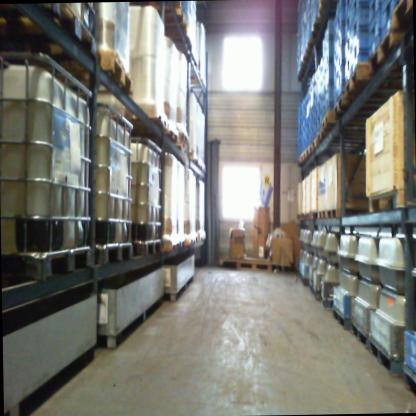pallet: (192, 38, 314, 243), (0, 2, 97, 57), (58, 50, 134, 94), (15, 244, 91, 281), (331, 89, 399, 120), (343, 61, 395, 101), (365, 27, 403, 76), (96, 237, 162, 264), (367, 336, 401, 378), (320, 109, 366, 132), (366, 186, 405, 213), (389, 0, 413, 32), (312, 135, 361, 150), (159, 9, 188, 32), (315, 127, 365, 140), (326, 204, 369, 219), (348, 322, 368, 352), (402, 360, 416, 400), (331, 303, 351, 330), (130, 0, 181, 10), (235, 259, 273, 272), (135, 114, 165, 129), (318, 292, 334, 313), (316, 0, 335, 17), (310, 16, 324, 38), (162, 128, 179, 142), (161, 238, 179, 251), (310, 282, 319, 298), (178, 130, 188, 144), (305, 142, 313, 157), (299, 149, 306, 162), (317, 209, 327, 218), (190, 156, 198, 165), (301, 55, 308, 65), (296, 69, 302, 80), (198, 232, 206, 240), (178, 239, 185, 248), (185, 238, 192, 245), (304, 211, 309, 219), (201, 165, 205, 173), (296, 213, 300, 220), (198, 164, 202, 170)
small_load_carrier: (350, 34, 367, 72), (379, 0, 401, 29), (352, 9, 371, 40), (367, 7, 380, 48), (343, 4, 353, 45), (344, 52, 354, 87), (352, 0, 368, 20), (367, 0, 379, 22), (325, 40, 334, 69), (344, 31, 352, 63), (325, 20, 334, 47), (336, 5, 344, 34), (325, 62, 334, 83), (337, 48, 344, 75), (337, 66, 345, 89), (336, 28, 344, 50), (343, 0, 352, 19), (321, 31, 326, 60), (326, 80, 334, 97), (326, 93, 334, 108), (321, 53, 326, 73), (333, 58, 337, 82), (333, 40, 337, 64), (333, 76, 338, 94), (333, 21, 337, 43), (314, 67, 319, 83), (314, 79, 319, 95), (321, 68, 326, 83), (318, 57, 322, 75), (309, 122, 314, 136), (309, 109, 314, 123), (313, 106, 318, 120), (317, 88, 322, 102), (322, 99, 326, 116), (317, 99, 322, 112), (322, 81, 327, 94), (318, 74, 322, 90), (318, 111, 322, 125), (314, 92, 318, 106), (306, 131, 310, 144), (314, 119, 318, 132), (300, 139, 304, 151), (303, 136, 307, 148), (322, 92, 326, 104), (305, 112, 309, 122), (300, 120, 304, 130), (303, 126, 306, 137), (306, 121, 309, 132), (300, 130, 303, 140)
